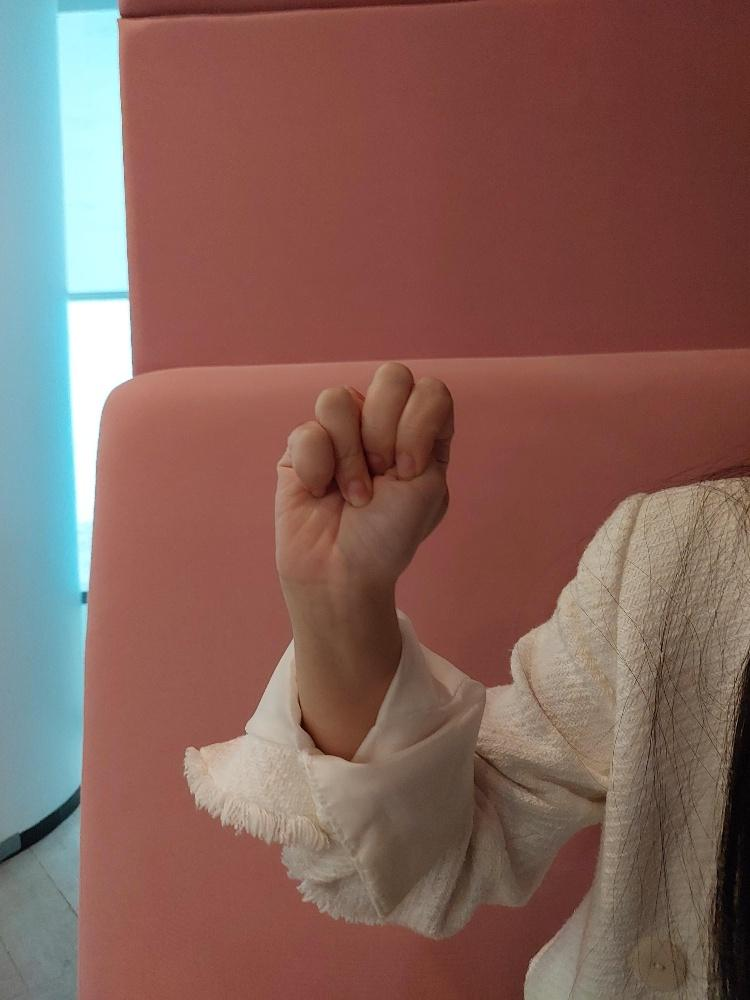n: (274, 360, 454, 571)
